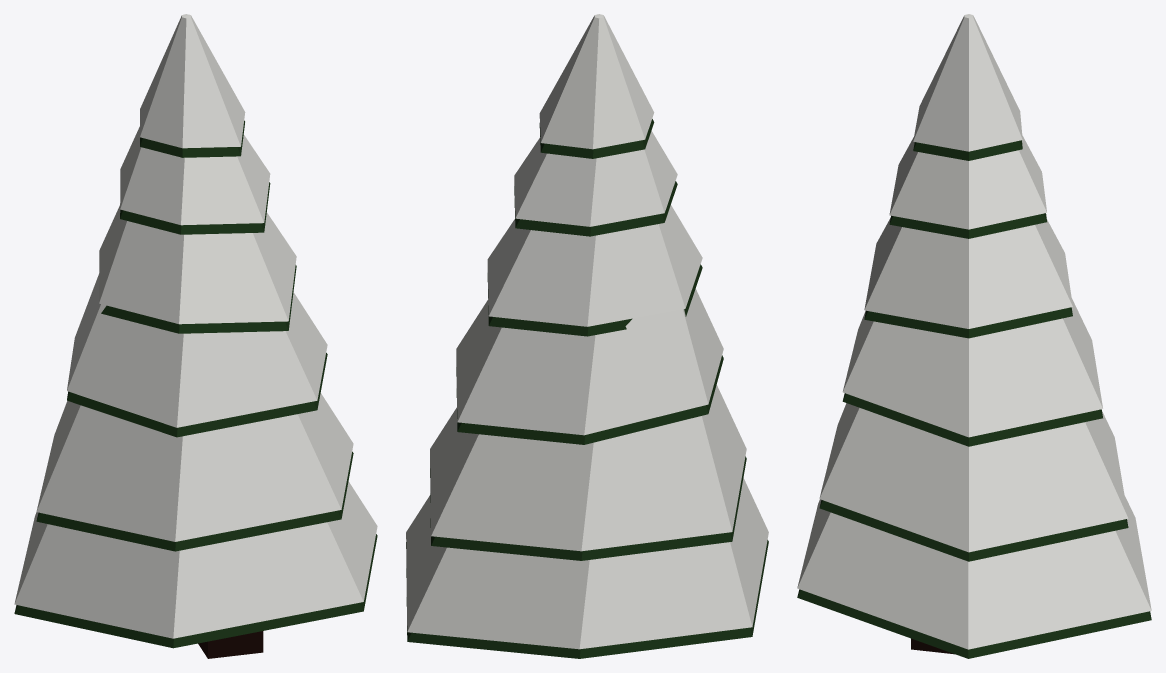
The model's file is Tree05.FBX.
3 views of the same model, side by side, from view 1: azimuth 30°, elevation 25°; view 2: azimuth 150°, elevation 25°; view 3: azimuth 270°, elevation 25° (orthographic). The views are drawn at different scales.
Parts seen in each view (by area): view 1: Snow Pine Tree; view 2: Snow Pine Tree; view 3: Snow Pine Tree.
Part boxes in pixels (x1,y1,x2,y2): Snow Pine Tree: [14, 14, 377, 658]; Snow Pine Tree: [406, 14, 768, 658]; Snow Pine Tree: [797, 14, 1151, 658].
Size of the model in its own units: 87.67 by 149 by 78.25.
